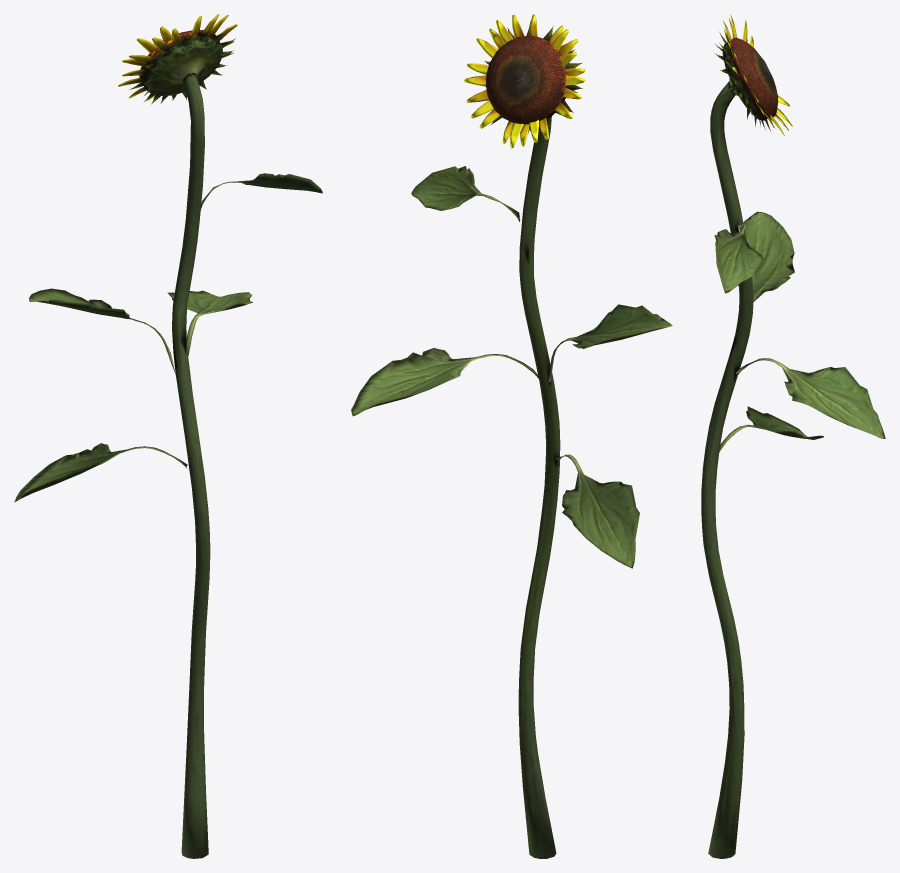
File: Girasole05.fbx
The picture shows the model from 3 angles, left to right: view 1: azimuth 30°, elevation 25°; view 2: azimuth 150°, elevation 25°; view 3: azimuth 270°, elevation 25°; orthographic projection.
Parts seen in each view (by area): view 1: Girasole05; view 2: Girasole05; view 3: Girasole05.
Boxes of the visible parts, left/top/right/bottom form: Girasole05: left=14, top=14, right=322, bottom=858; Girasole05: left=351, top=14, right=672, bottom=858; Girasole05: left=701, top=14, right=885, bottom=858.
Size of the model in its own units: 29.44 by 84.81 by 17.12.
